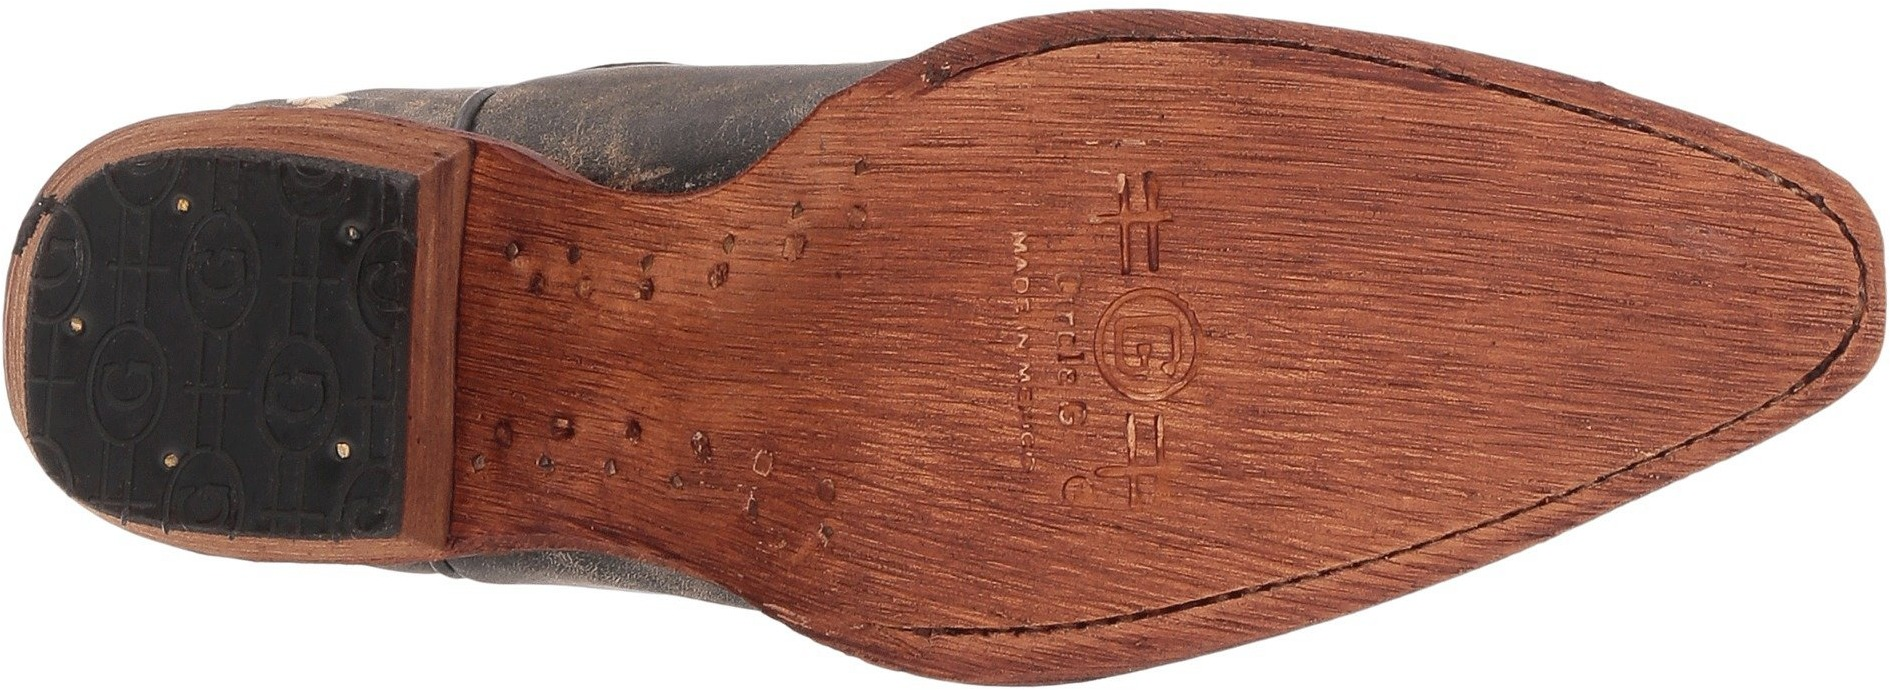circle: (1082, 148, 1237, 511), (166, 193, 288, 349), (71, 318, 182, 448)
line: (1082, 148, 1237, 511)
text: (1082, 148, 1237, 511), (166, 193, 288, 349), (71, 318, 182, 448)
